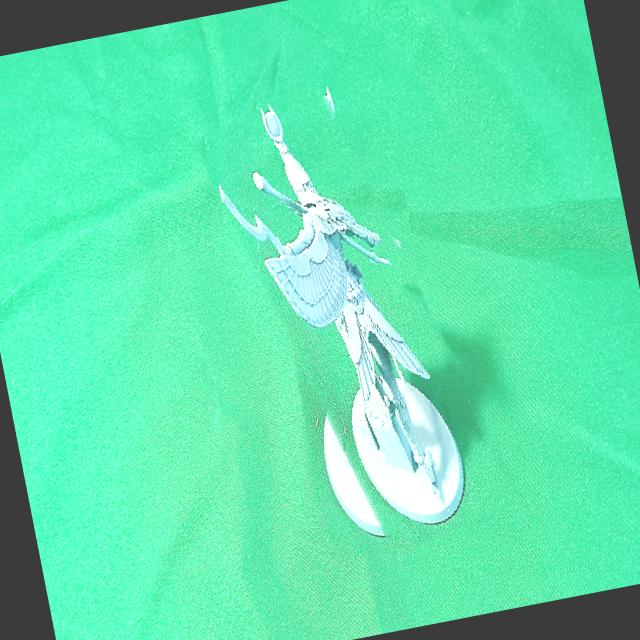isis: (215, 67, 500, 570)
